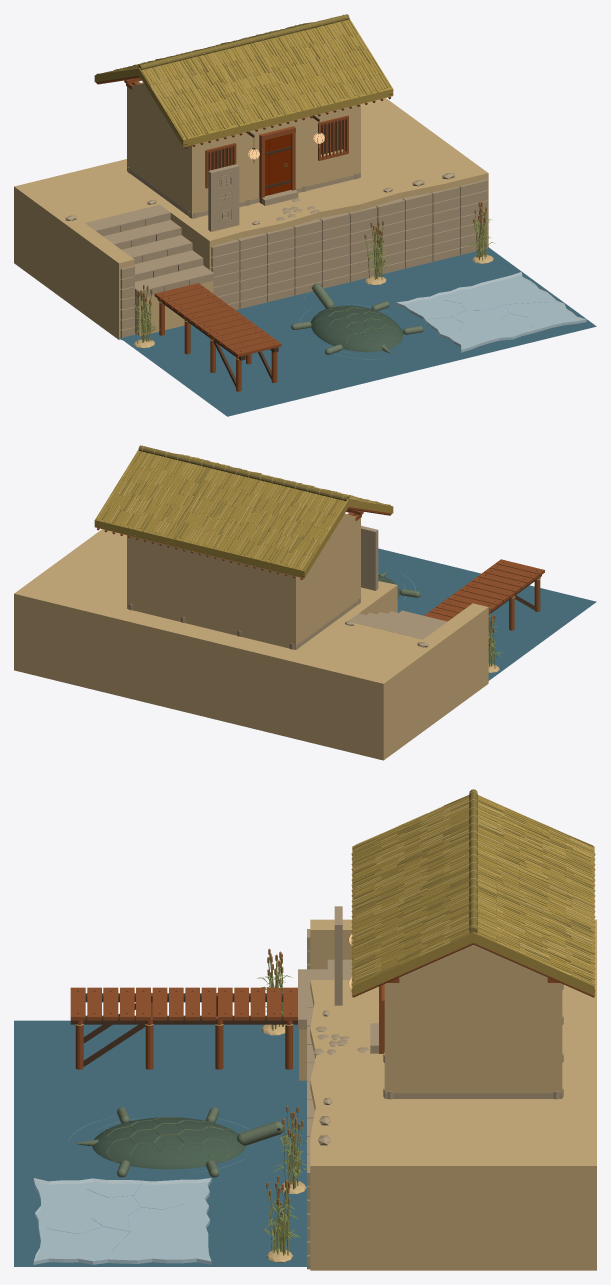
The model's file is xy_tongtianhe.glb.
The picture shows the model from 3 angles, top to bottom: view 1: azimuth 30°, elevation 25°; view 2: azimuth 150°, elevation 25°; view 3: azimuth 270°, elevation 25°; orthographic projection. The views are drawn at different scales.
Visible parts, largest first — view 1: xy_tongtianhe; view 2: xy_tongtianhe; view 3: xy_tongtianhe.
Part boxes in pixels (x1,y1,x2,y2): xy_tongtianhe: (14, 14, 596, 416); xy_tongtianhe: (14, 445, 596, 760); xy_tongtianhe: (14, 789, 596, 1270).
Size of the model in its own units: 21 by 11.42 by 20.86.
